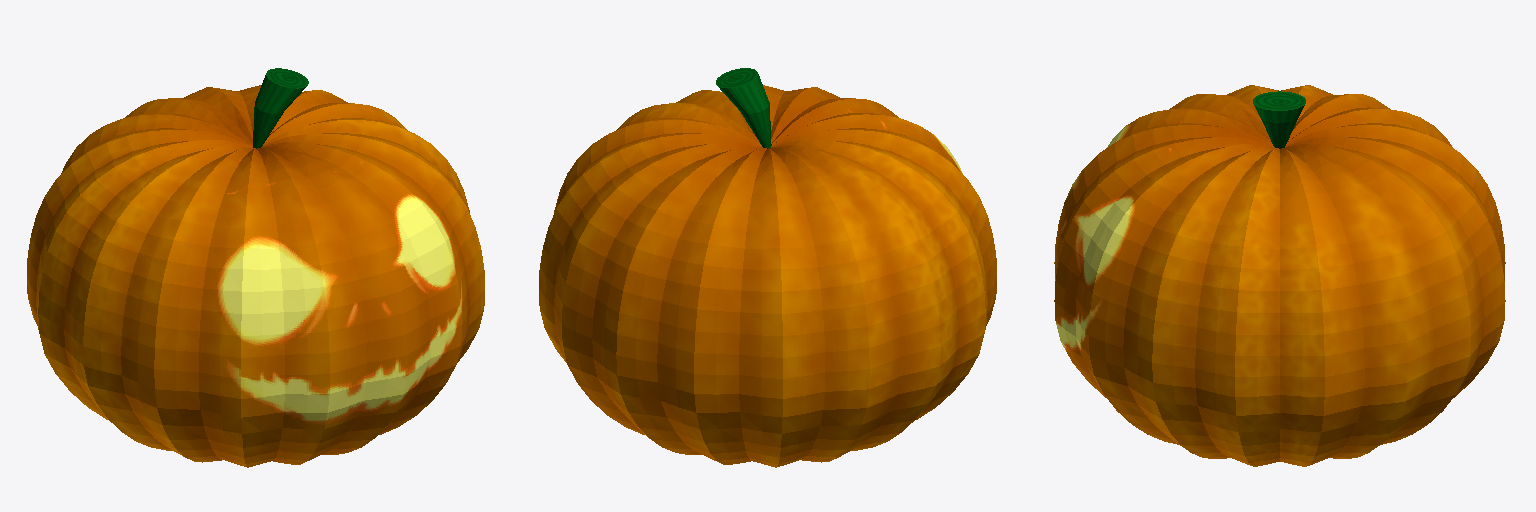
3 views of the same model, side by side, from view 1: azimuth 30°, elevation 25°; view 2: azimuth 150°, elevation 25°; view 3: azimuth 270°, elevation 25° (orthographic).
Visible parts, largest first — view 1: Sphere_Sphere.001, Cone; view 2: Sphere_Sphere.001, Cone; view 3: Sphere_Sphere.001, Cone.
Part boxes in pixels (x1,y1,x2,y2): Sphere_Sphere.001: (27, 85, 484, 467); Cone: (253, 68, 308, 148); Sphere_Sphere.001: (539, 85, 996, 467); Cone: (716, 68, 771, 148); Sphere_Sphere.001: (1054, 85, 1505, 466); Cone: (1253, 91, 1305, 148).
Size of the model in its own units: 1.91 by 1.6 by 1.91.
2 materials, 2 textured.